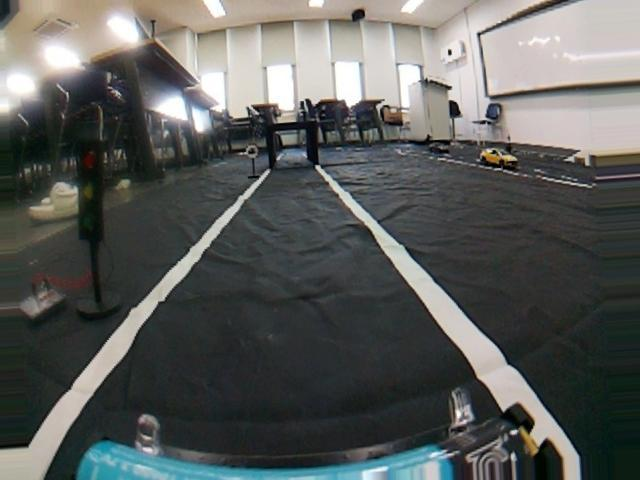straight: (23, 233, 640, 479)
yellow_light: (70, 139, 116, 244)
